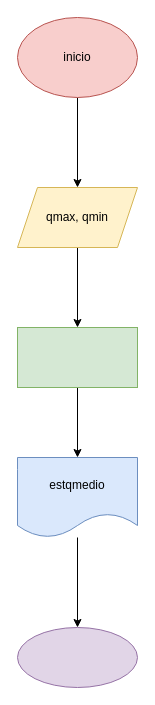
Image size: 155x705. Some labels were removed from this diagram. Each missing label, with the centre of its shape:
estqmedio<- (qmax=qmin)/2: the point at 77,357
fim: the point at 77,657
